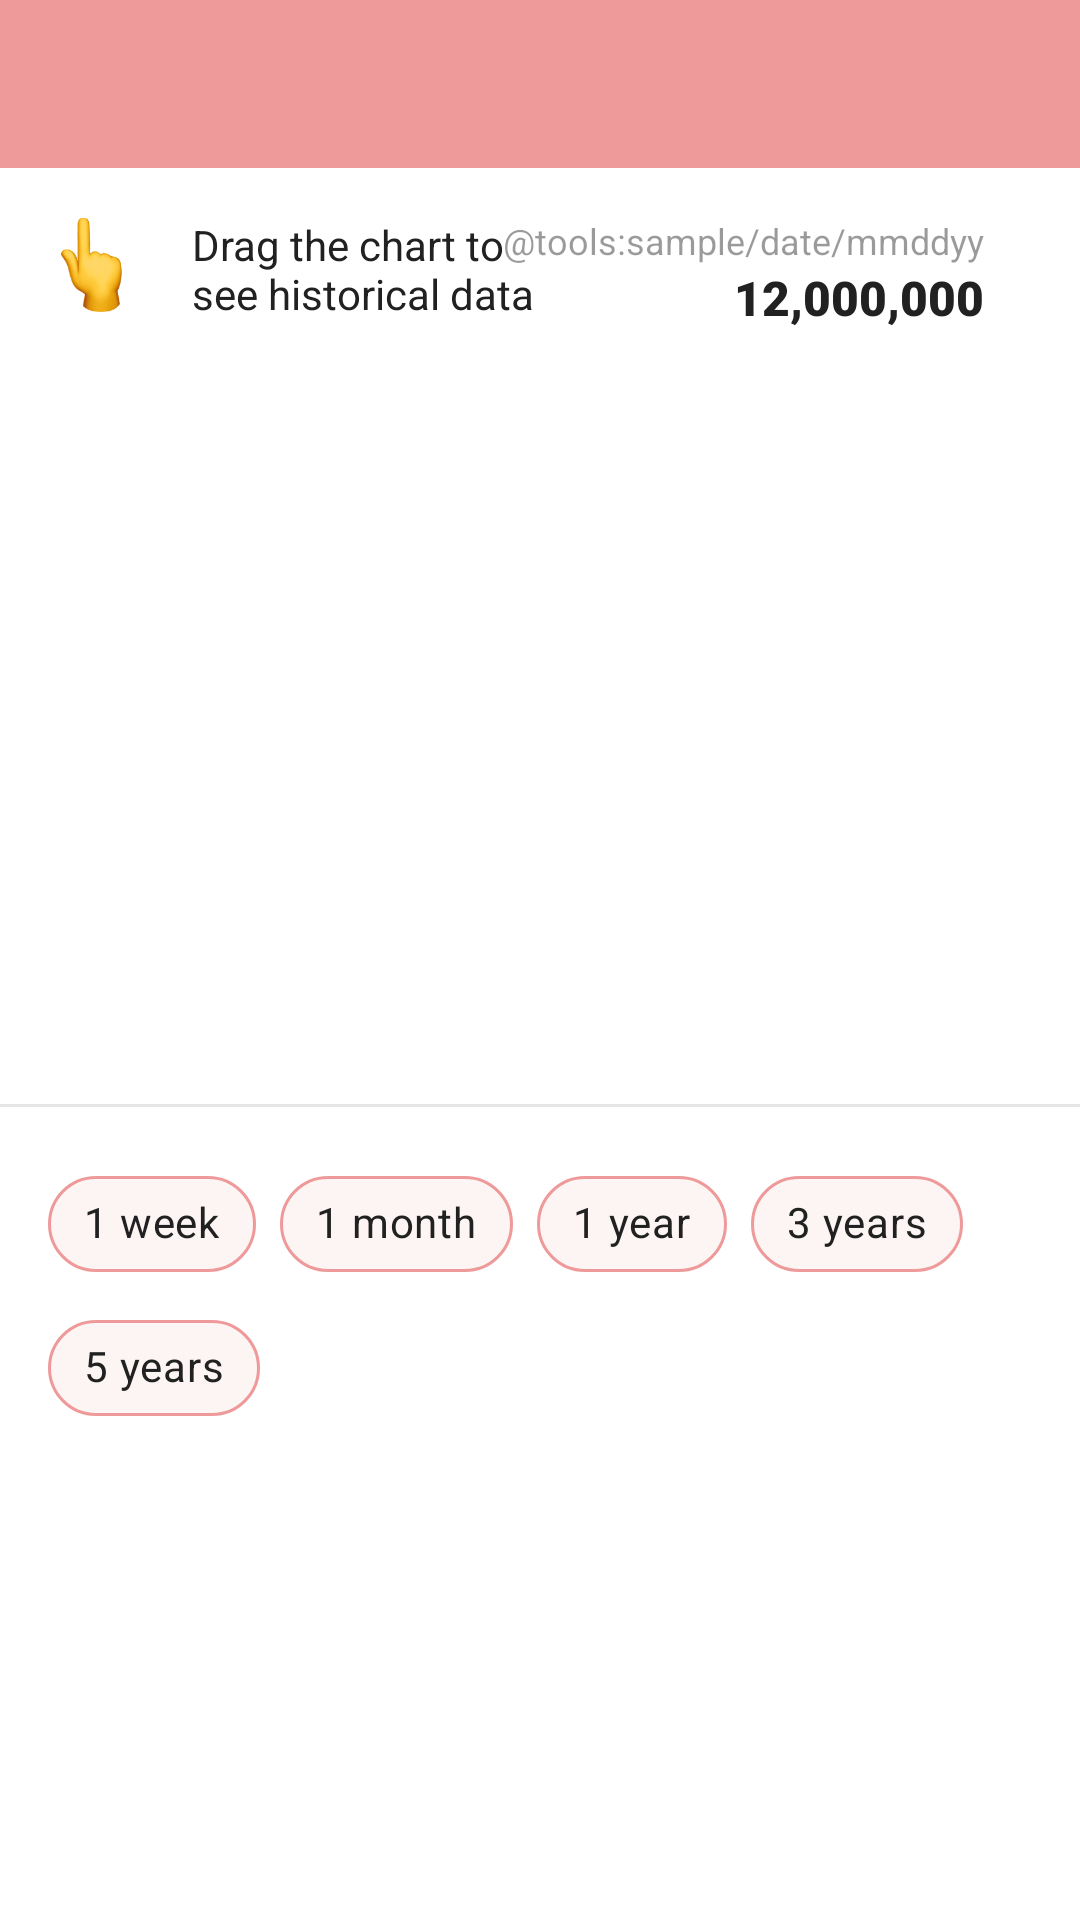

Point at icon controls on the screen. Image size 1080 x 1920, points as [x,y].
emoji finger up: [91,265]
